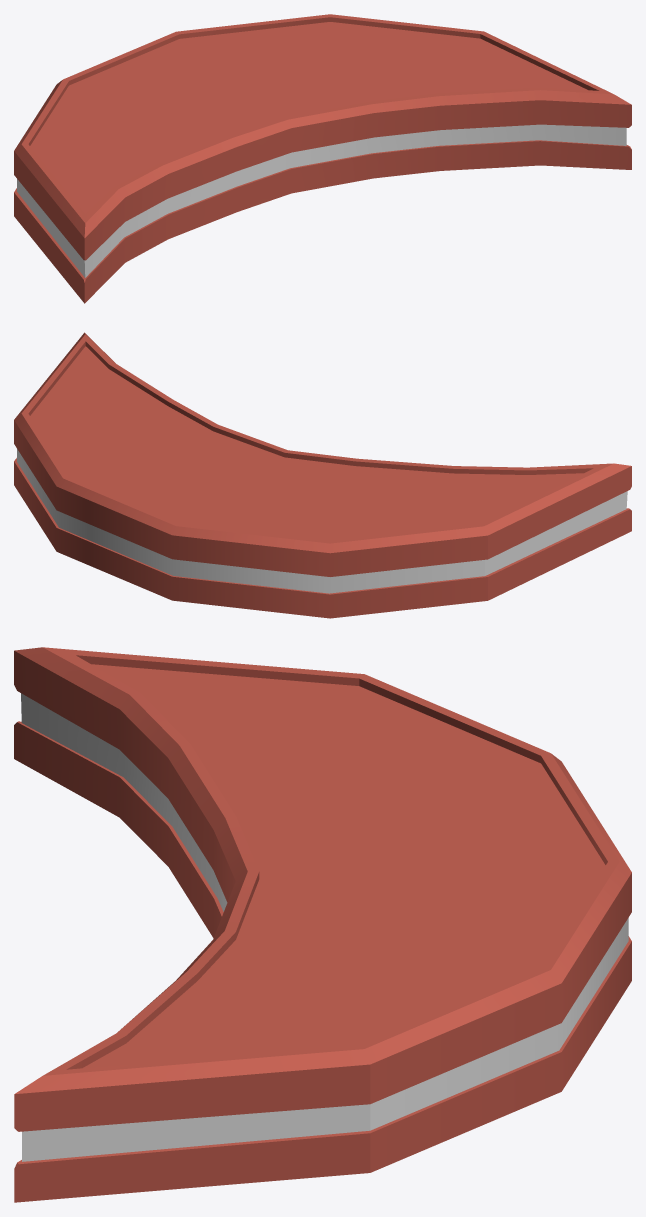
File: OR_Gate.fbx
The picture shows the model from 3 angles, top to bottom: view 1: azimuth 30°, elevation 25°; view 2: azimuth 150°, elevation 25°; view 3: azimuth 270°, elevation 25°; orthographic projection. The views are drawn at different scales.
Parts seen in each view (by area): view 1: OR Circuit; view 2: OR Circuit; view 3: OR Circuit.
Part boxes in pixels (x1,y1,x2,y2): OR Circuit: [14, 14, 631, 303]; OR Circuit: [14, 332, 631, 618]; OR Circuit: [14, 647, 631, 1202].
Bounding box in the file's own units: 374 × 50.81 × 220.
